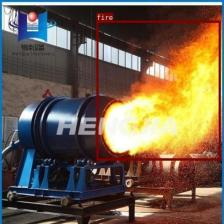fire: (96, 20, 220, 160)
